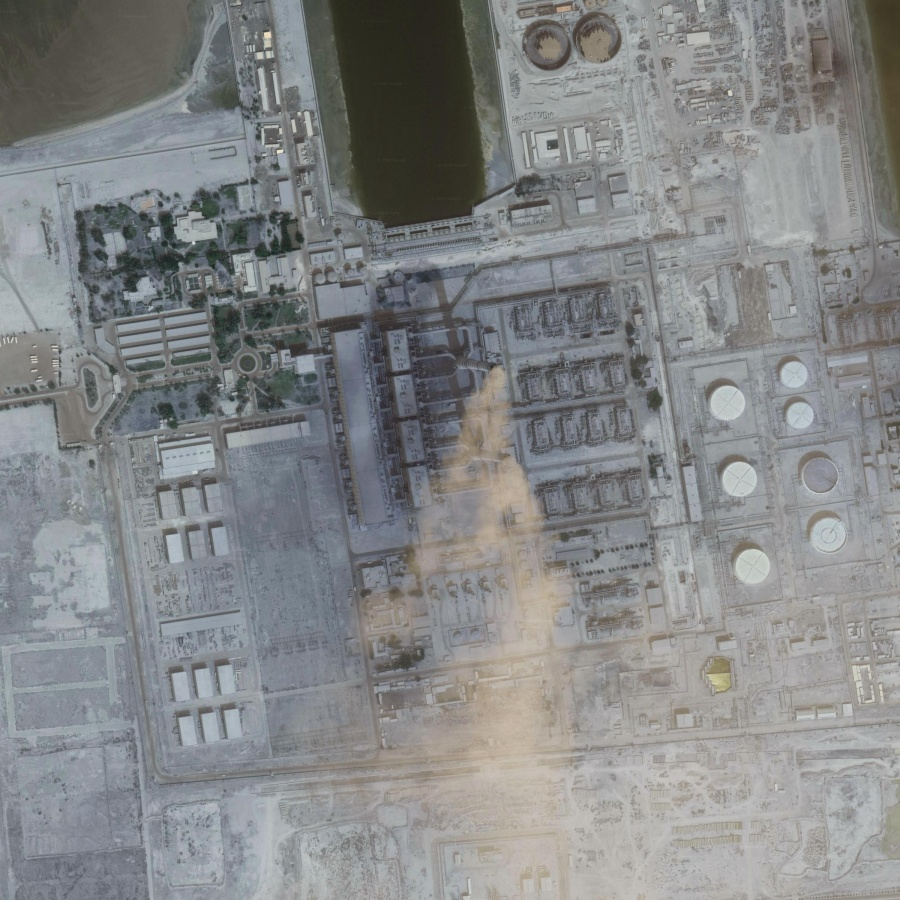PowerPlant: (333, 221, 863, 697)
